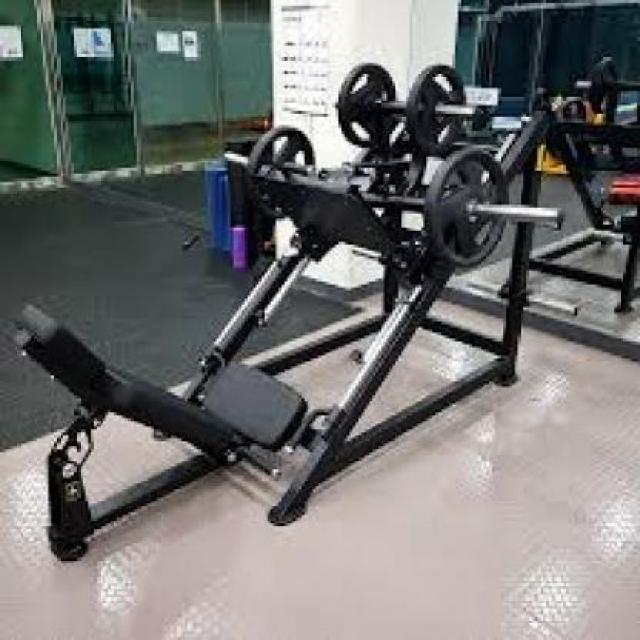leg press: (0, 45, 603, 577)
